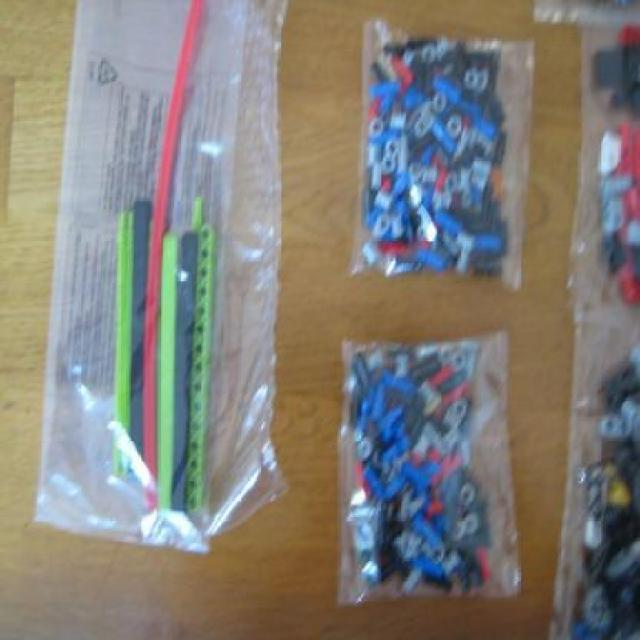plastic bag: (29, 1, 302, 557)
